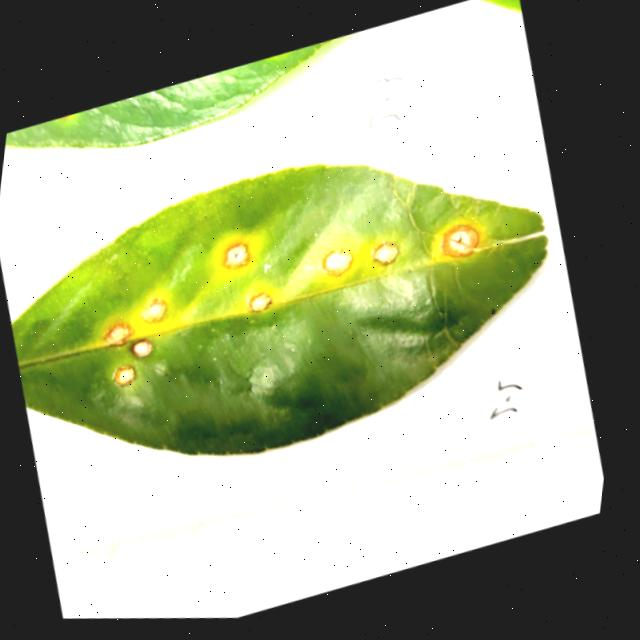antracnose: (12, 164, 547, 455), (441, 225, 479, 257), (321, 248, 352, 275), (222, 243, 249, 269), (140, 298, 166, 323), (103, 323, 133, 344), (371, 243, 398, 265), (247, 293, 271, 312), (114, 366, 135, 386), (131, 339, 152, 357)
